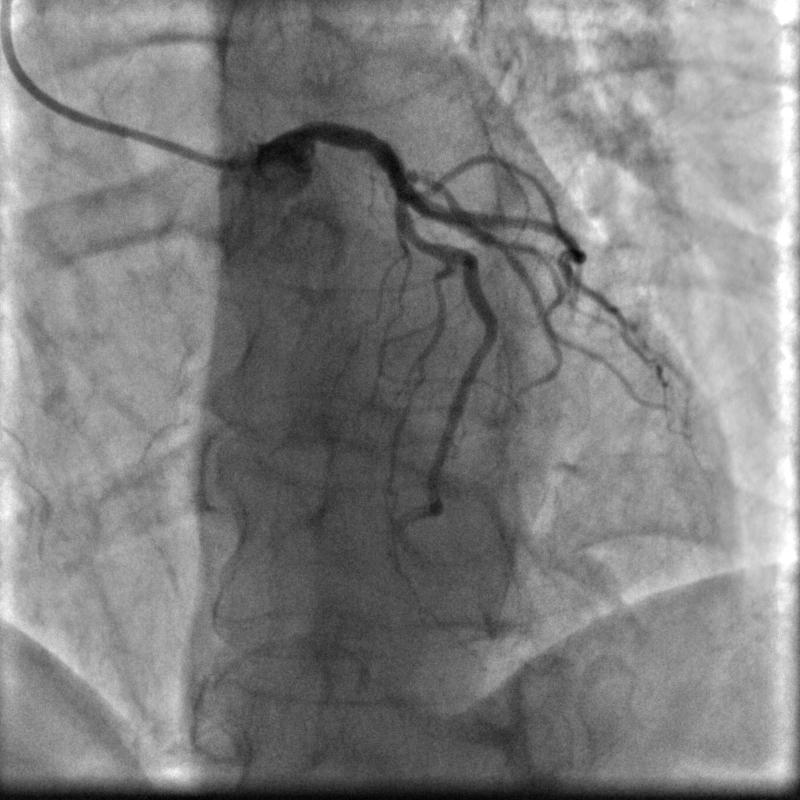Stenosis: (403, 226, 436, 246)
